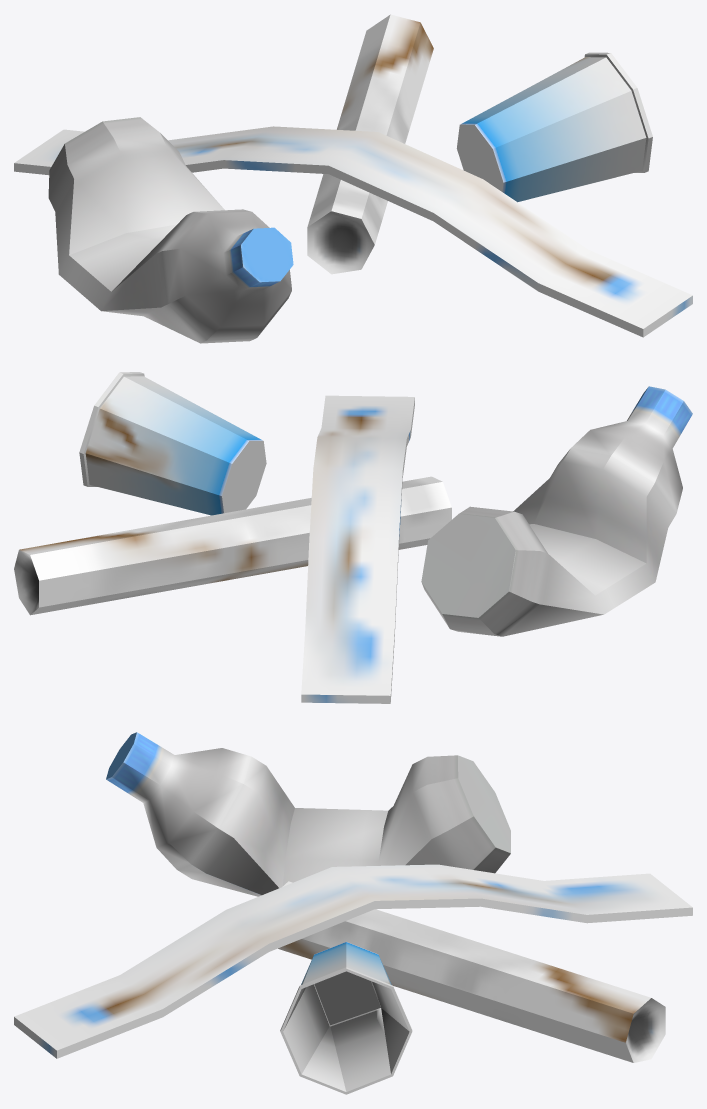
The model's file is ammomaker_RecPlastic.fbx.
The picture shows the model from 3 angles, top to bottom: view 1: azimuth 30°, elevation 25°; view 2: azimuth 150°, elevation 25°; view 3: azimuth 270°, elevation 25°; orthographic projection. The views are drawn at different scales.
Parts seen in each view (by area): view 1: ammomaker_RecPlastic; view 2: ammomaker_RecPlastic; view 3: ammomaker_RecPlastic.
Boxes of the visible parts, x1,y1,x2,y2 form: ammomaker_RecPlastic: [14, 14, 692, 343]; ammomaker_RecPlastic: [14, 372, 692, 703]; ammomaker_RecPlastic: [14, 732, 692, 1094].
Size of the model in its own units: 13.58 by 3.34 by 14.9.
